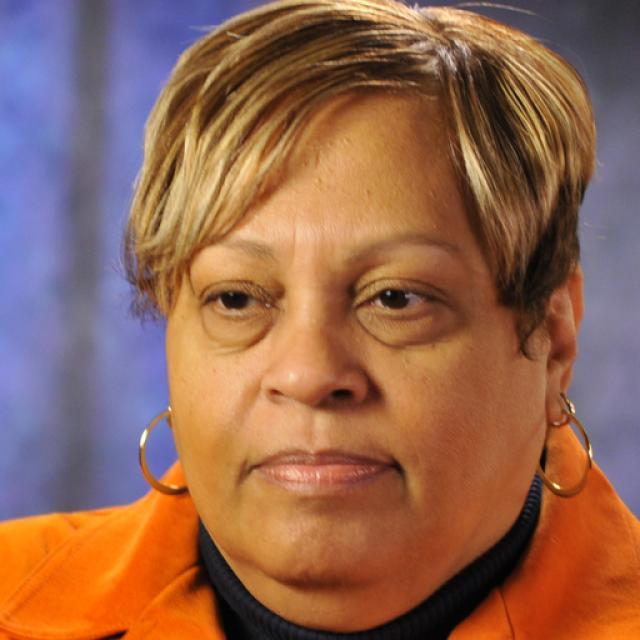neutral: (165, 93, 533, 582)
